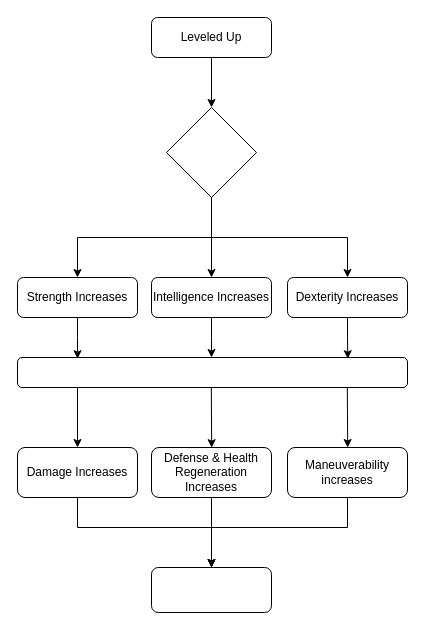
The diagram is 425 pixels wide and 630 high, and some of its shapes have lost their labels. Here are the shapes that lost their labels. From the top down, the centre of each, then its label:
At [211,152]: "Random Number Generator".
At [212,372]: "Script Refreshes PlayerStats".
At [211,589]: "Player becomes more powerful".
